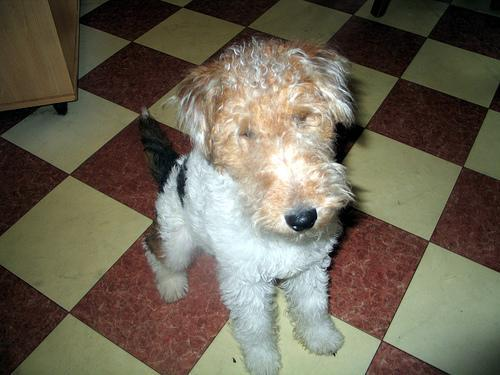wire-haired_fox_terrier: (134, 31, 357, 374)
